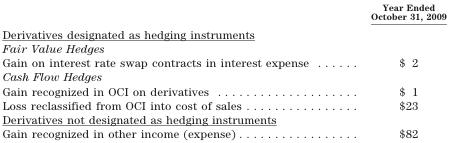table: (1, 0, 445, 139)
table column: (1, 0, 339, 139), (339, 0, 445, 139)
table column header: (1, 0, 445, 24)
table projected row header: (1, 24, 445, 41), (1, 111, 445, 126), (1, 41, 445, 55), (1, 69, 445, 83)
table row: (1, 0, 445, 24), (1, 24, 445, 41), (1, 111, 445, 126), (1, 41, 445, 55), (1, 55, 445, 69), (1, 69, 445, 83), (1, 83, 445, 97), (1, 97, 445, 111), (1, 126, 445, 139)
